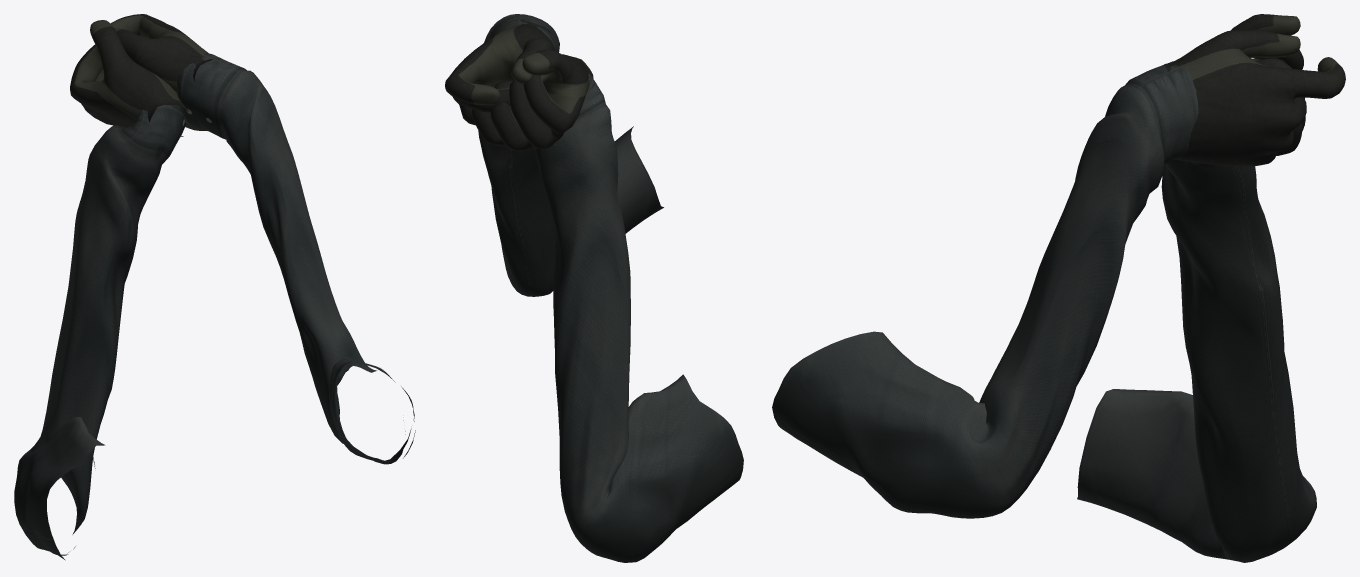
Rendered from smg45_pistol_service_arms.glb.
3 renders of one model, left to right at view 1: azimuth 30°, elevation 25°; view 2: azimuth 150°, elevation 25°; view 3: azimuth 270°, elevation 25°, orthographic. The views are drawn at different scales.
Visible parts, largest first — view 1: LeftArmMesh, RightArmMesh; view 2: LeftArmMesh, RightArmMesh; view 3: RightArmMesh, LeftArmMesh.
Part boxes in pixels (x1=…): LeftArmMesh: x1=14, y1=20, x2=188, y2=560; RightArmMesh: x1=110, y1=14, x2=415, y2=464; LeftArmMesh: x1=472, y1=49, x2=743, y2=562; RightArmMesh: x1=445, y1=14, x2=663, y2=296; RightArmMesh: x1=772, y1=29, x2=1345, y2=518; LeftArmMesh: x1=1077, y1=14, x2=1316, y2=562.
Size of the model in its own units: 0.7015 by 1.17 by 1.04.
Materials: 4 (4 with a texture image).
